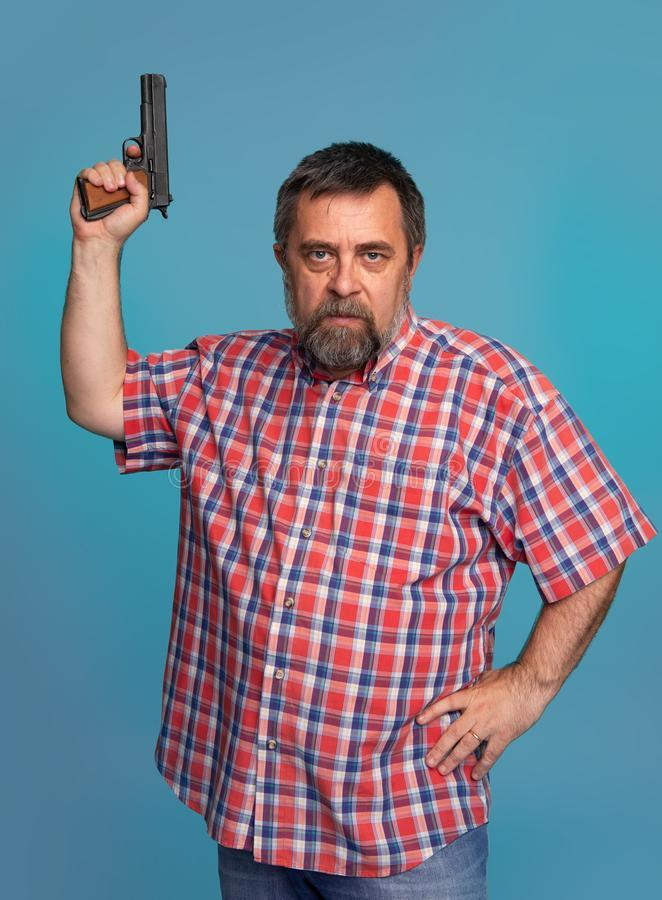criminal: (58, 66, 658, 900)
weapon: (71, 66, 184, 229)
